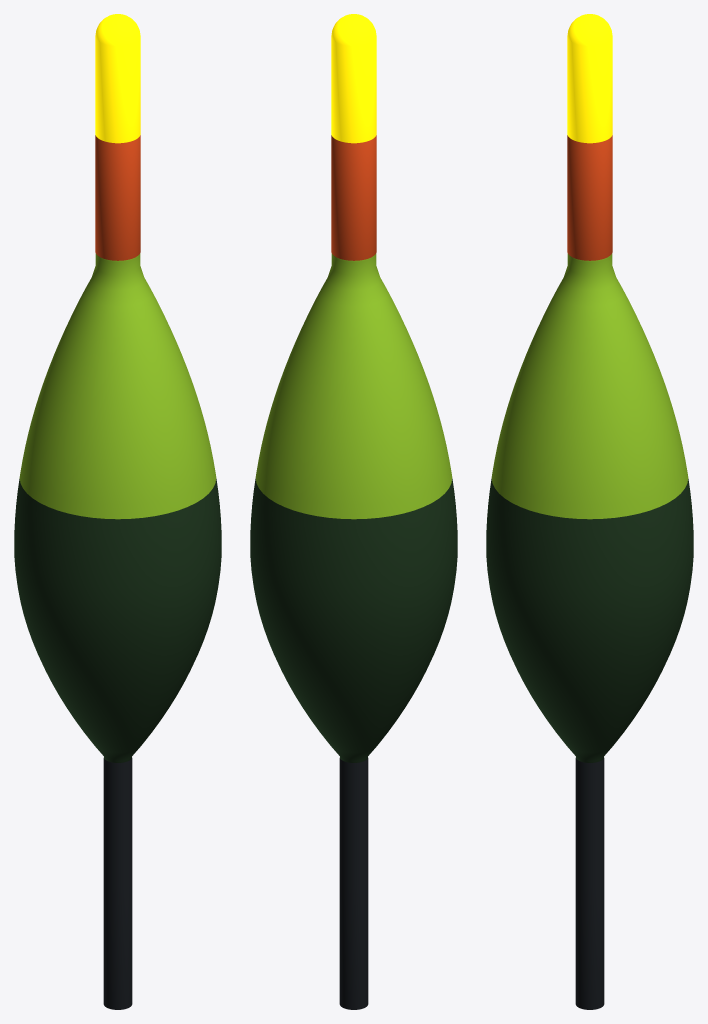
File: shchuka.glb
3 renders of one model, left to right at view 1: azimuth 30°, elevation 25°; view 2: azimuth 150°, elevation 25°; view 3: azimuth 270°, elevation 25°, orthographic.
Visible parts, largest first — view 1: shchuka; view 2: shchuka; view 3: shchuka.
Part boxes in pixels (x1=…): shchuka: x1=14, y1=14, x2=221, y2=1009; shchuka: x1=250, y1=14, x2=457, y2=1009; shchuka: x1=486, y1=14, x2=693, y2=1009.
Bounding box in the file's own units: 0.032 × 0.168 × 0.032.
